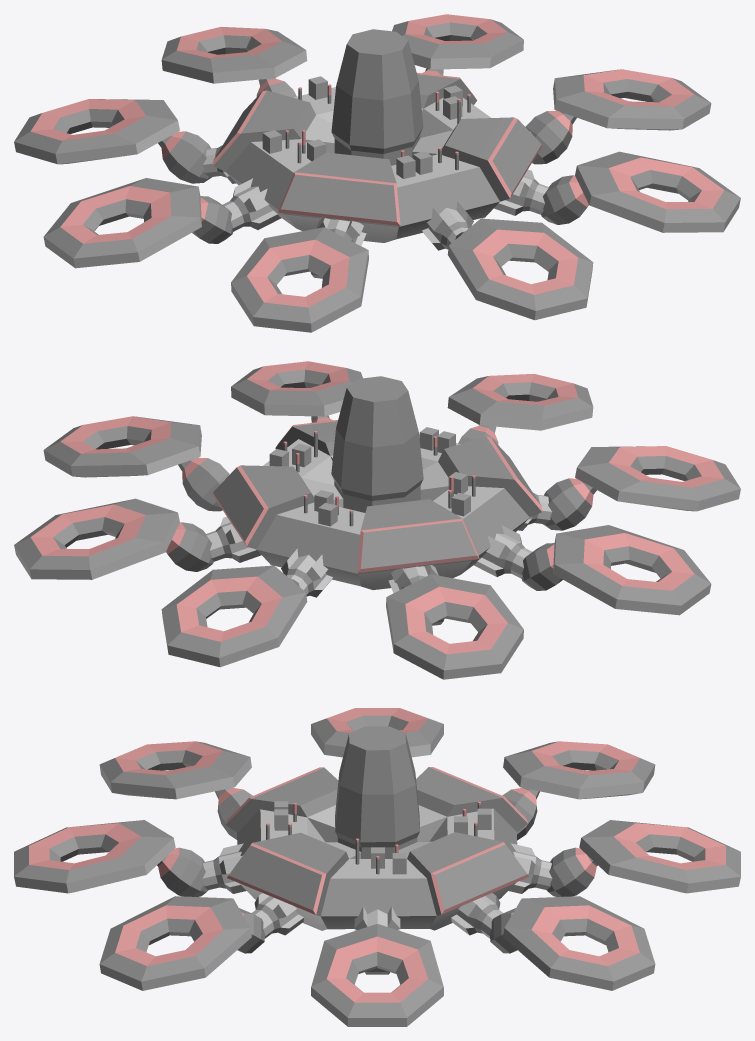
The model's file is BossDronePlatform.fbx.
3 views of the same model, one above another, from view 1: azimuth 30°, elevation 25°; view 2: azimuth 150°, elevation 25°; view 3: azimuth 270°, elevation 25° (orthographic).
Visible parts, largest first — view 1: Boss_Drone_Platform; view 2: Boss_Drone_Platform; view 3: Boss_Drone_Platform.
Part boxes in pixels (bbox=[...]): Boss_Drone_Platform: bbox=[14, 14, 740, 332]; Boss_Drone_Platform: bbox=[14, 361, 740, 679]; Boss_Drone_Platform: bbox=[14, 708, 740, 1026].
Bounding box in the file's own units: 17.54 × 4.17 × 17.54.
